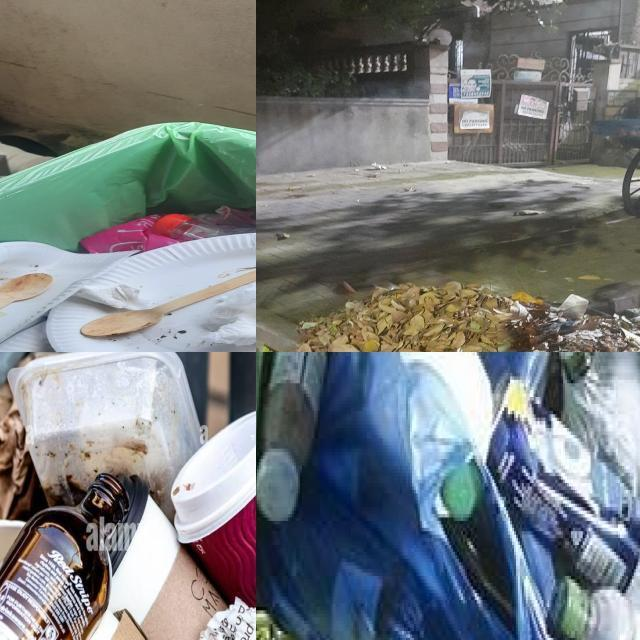Disposable: (7, 352, 202, 520), (171, 410, 256, 607), (0, 241, 130, 343)
Garbage: (256, 352, 640, 640), (0, 352, 256, 640), (0, 207, 256, 352), (287, 282, 640, 352)
Glass_bottle: (0, 472, 131, 640), (256, 352, 327, 523)
Plastic_Bag: (257, 352, 560, 640), (558, 294, 588, 320)
Plastic_bottle: (153, 215, 256, 241)
Plastic_wraper: (79, 215, 178, 253)
Tetrapack: (488, 379, 640, 589), (260, 345, 276, 352)
